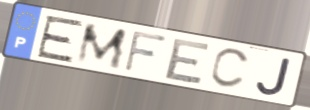C: (208, 48, 253, 91)
E: (34, 14, 86, 64), (161, 37, 213, 86)
F: (121, 28, 169, 74)
J: (255, 56, 293, 98)
M: (73, 22, 130, 71)
